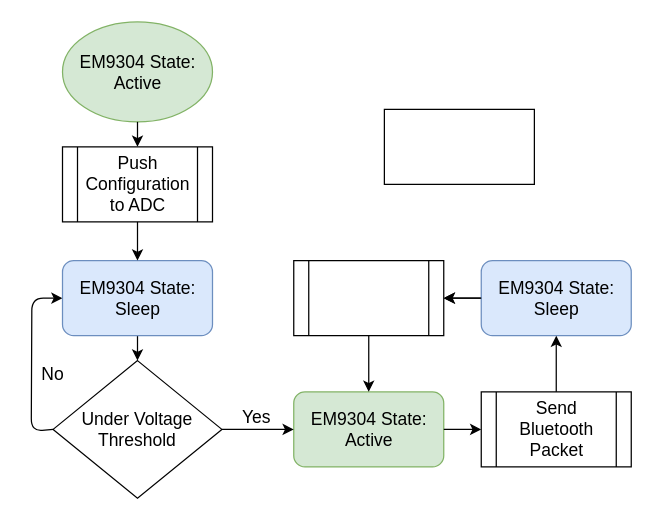
Image size: 653x520. Some labels were removed from this diagram. The centre of each missing label's shape, as x and y in pixels:
"Stretch Goal: Snooze Button" belongs at (x=458, y=146).
"Wait 2s (0.5 Hz)" belongs at (x=368, y=297).
